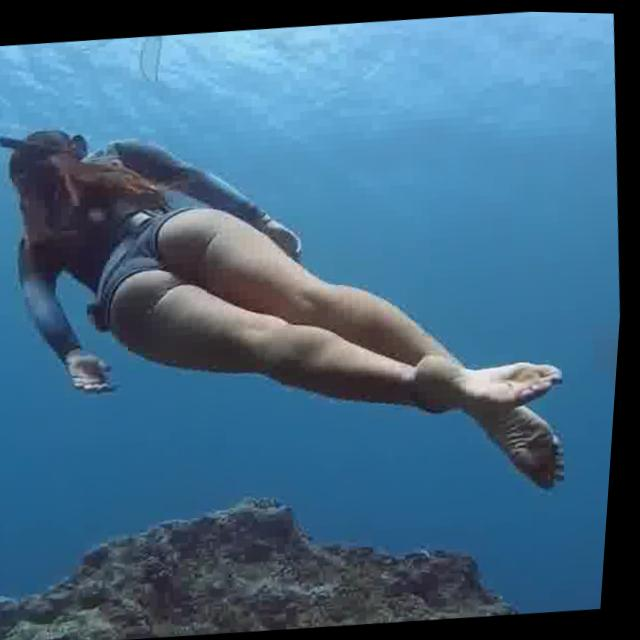human: (0, 68, 613, 556)
